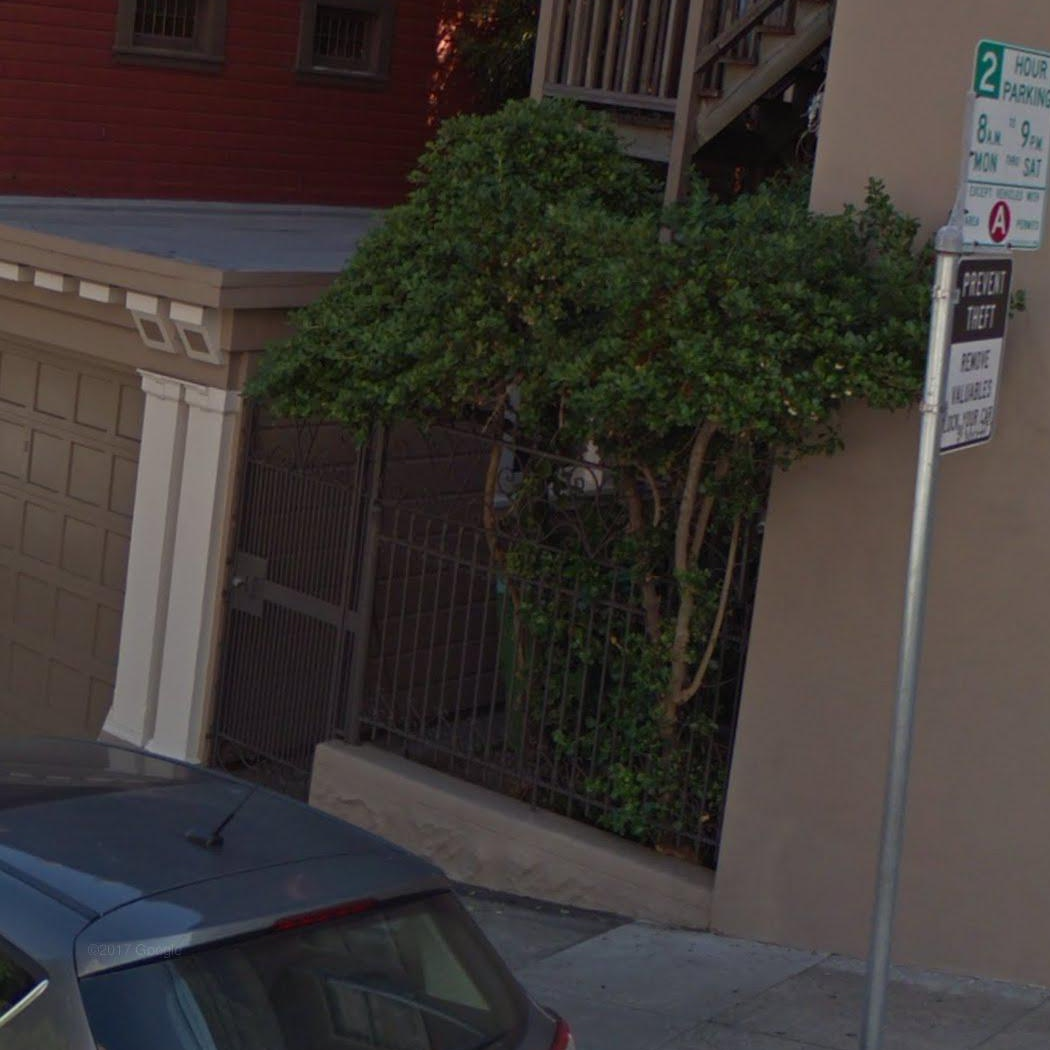2 Hour Parking: (955, 31, 1048, 254)
